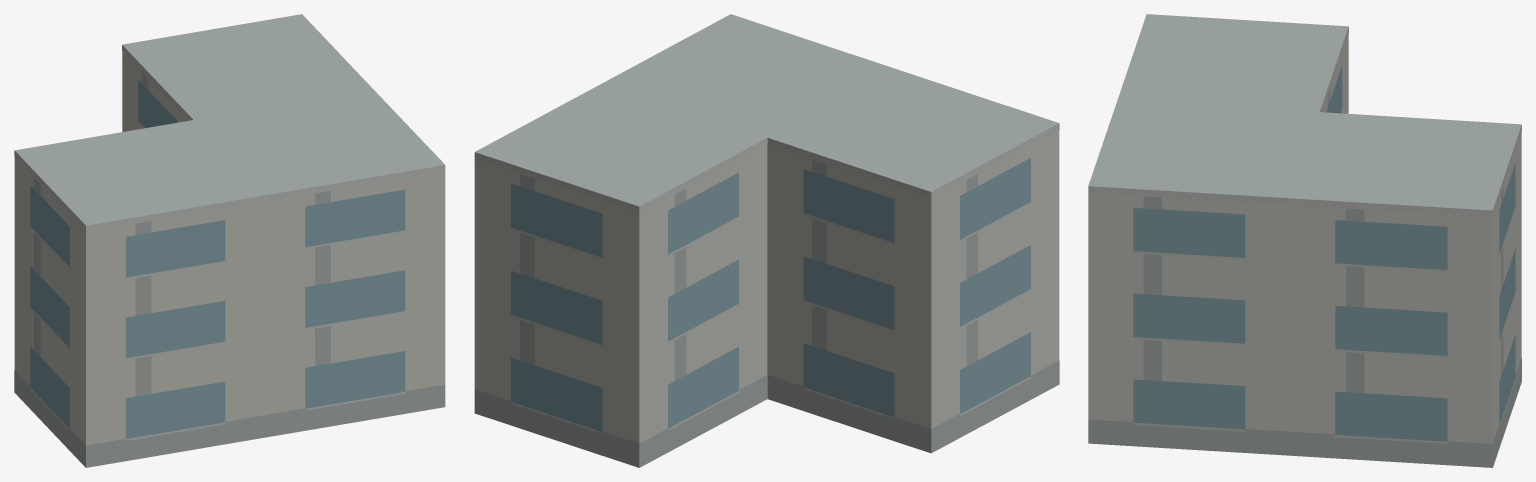
Rendered from residential-743d05b3-c6e7-4a6f-9520-5f49b41bce09.glb.
The picture shows the model from 3 angles, left to right: view 1: azimuth 30°, elevation 25°; view 2: azimuth 150°, elevation 25°; view 3: azimuth 270°, elevation 25°; orthographic projection. The views are drawn at different scales.
Parts seen in each view (by area): view 1: residential-743d05b3-c6e7-4a6f-9520-5f49b41bce09.tmp; view 2: residential-743d05b3-c6e7-4a6f-9520-5f49b41bce09.tmp; view 3: residential-743d05b3-c6e7-4a6f-9520-5f49b41bce09.tmp.
Boxes of the visible parts, x1=… form: residential-743d05b3-c6e7-4a6f-9520-5f49b41bce09.tmp: x1=14, y1=14, x2=445, y2=467; residential-743d05b3-c6e7-4a6f-9520-5f49b41bce09.tmp: x1=474, y1=14, x2=1059, y2=467; residential-743d05b3-c6e7-4a6f-9520-5f49b41bce09.tmp: x1=1088, y1=14, x2=1521, y2=467.
Size of the model in its own units: 15 by 9.15 by 13.98.
